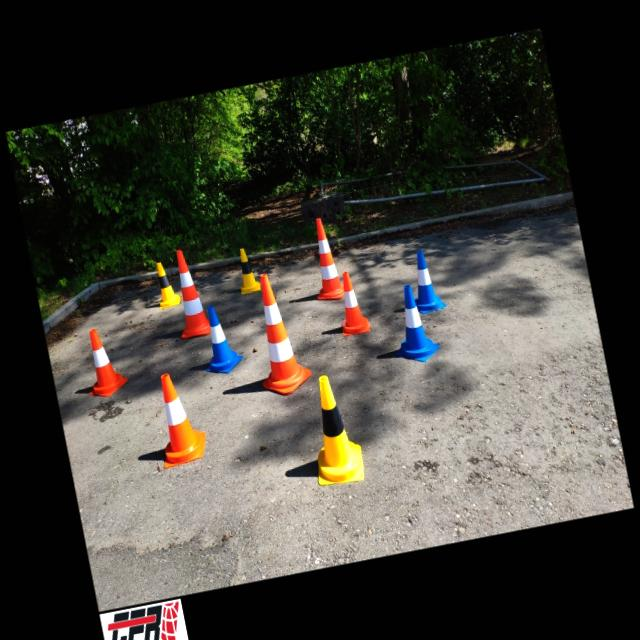blue_cone: (384, 282, 442, 366), (195, 303, 245, 377), (406, 248, 447, 314)
large_orange_cone: (242, 269, 314, 399), (166, 246, 213, 340), (301, 215, 348, 302)
orange_cone: (147, 369, 210, 469), (78, 325, 130, 400), (332, 270, 370, 336)
yellow_cone: (298, 372, 366, 488), (152, 260, 182, 308), (233, 247, 261, 294)
